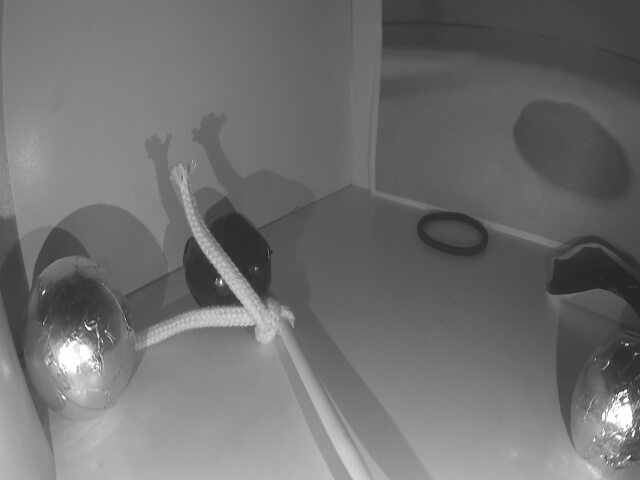Dead: (185, 212, 275, 315)
Live: (18, 261, 139, 419), (568, 329, 640, 472)
